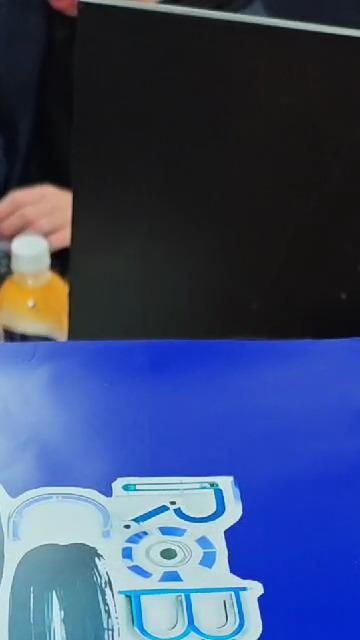B_R1: (0, 353, 321, 640)
